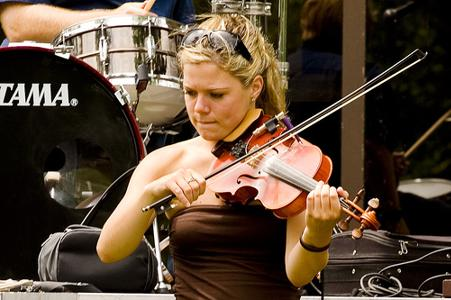person: (94, 15, 342, 300)
